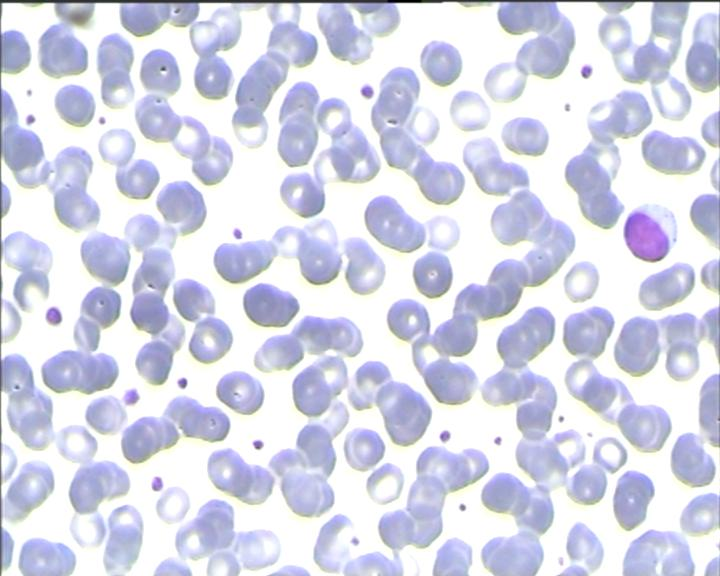lymp: (623, 200, 682, 264)
